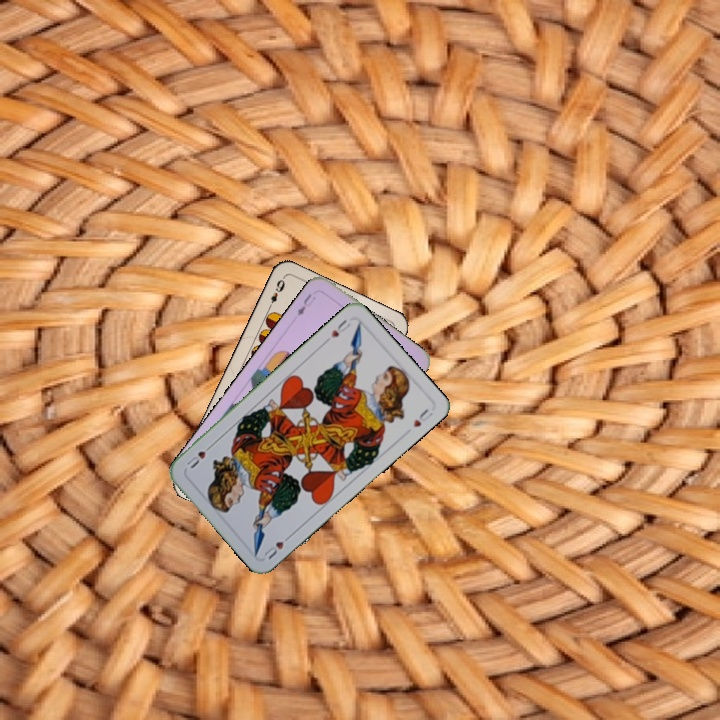E9: (264, 274, 287, 312)
EU: (293, 289, 318, 319)
HU: (259, 530, 294, 562), (327, 315, 353, 340)
